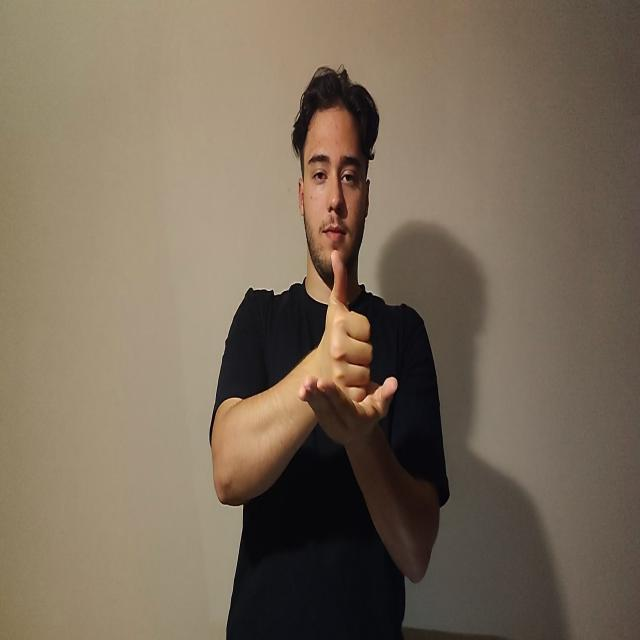help: (299, 252, 398, 430)
